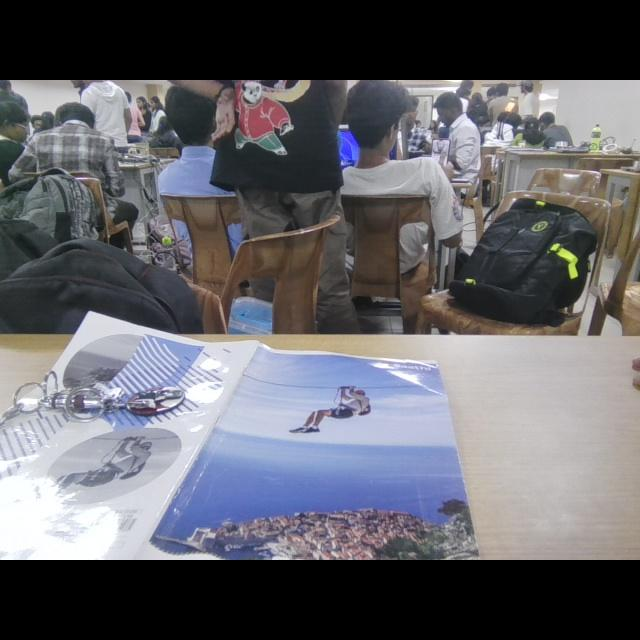keys: (8, 368, 188, 436)
